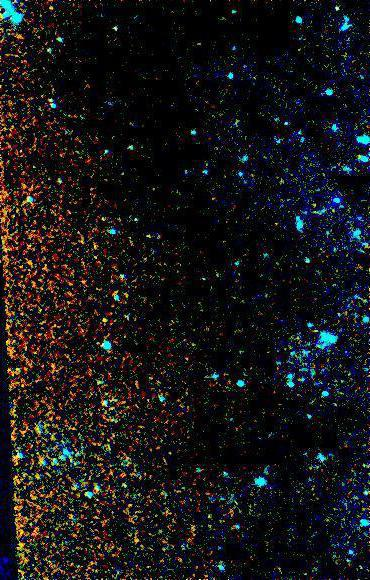star: (89, 307, 119, 337)
